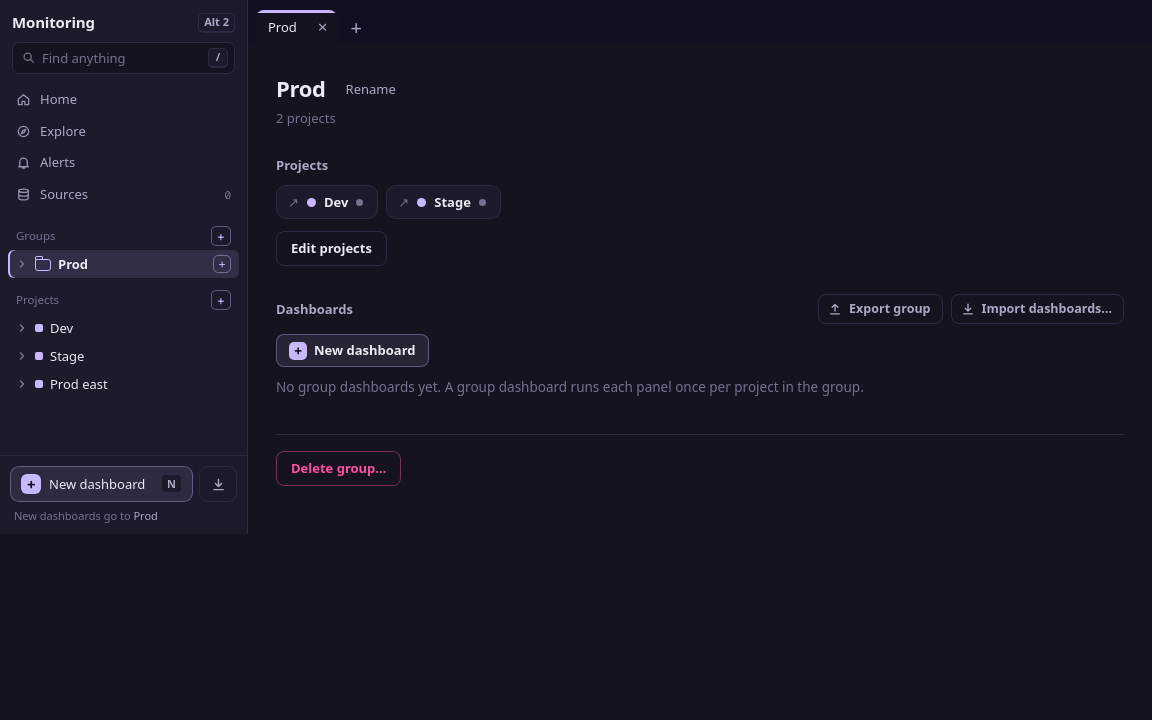
Scenario: Groups › deleting a group keeps its projects
Later steps or results of the test are not shown.
Click the button "Delete group…" at (339, 469), box [276,451,402,486]
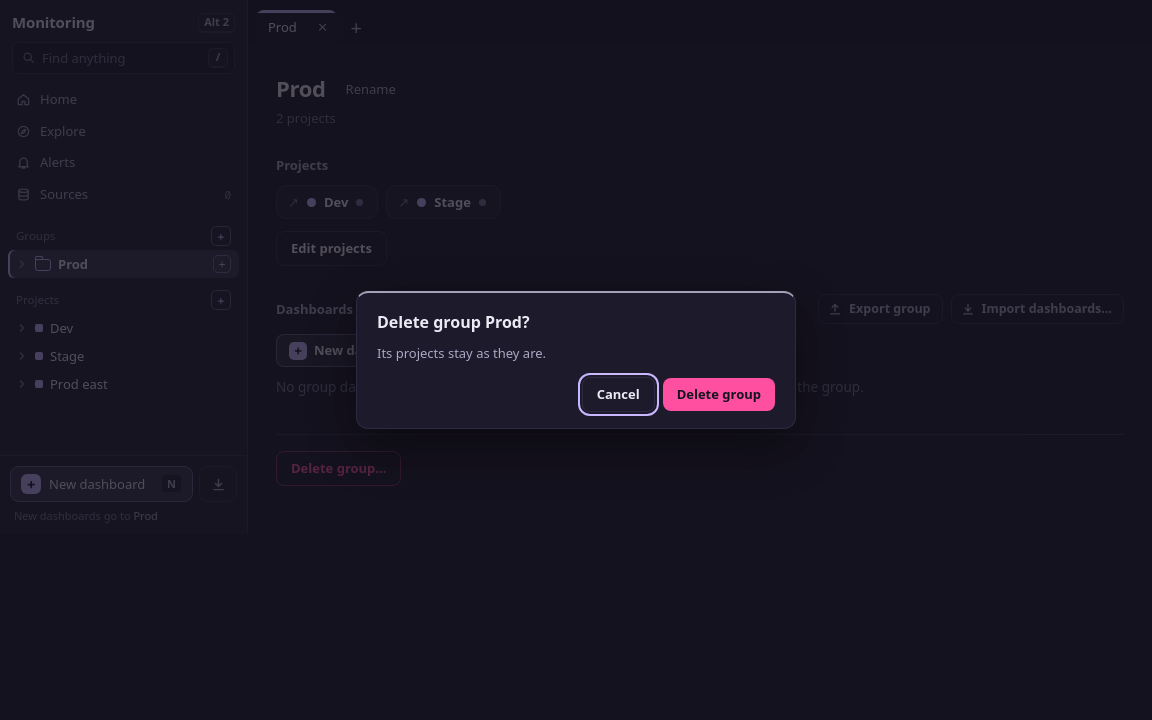
Check: the heading "Delete group Prod?" is shown, box [377,311,530,333]
Check: the text "Its projects stay as they are." is shown, box [377,344,546,362]
